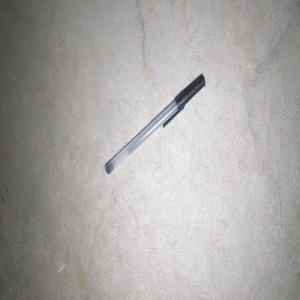Pen: (105, 75, 205, 174)
